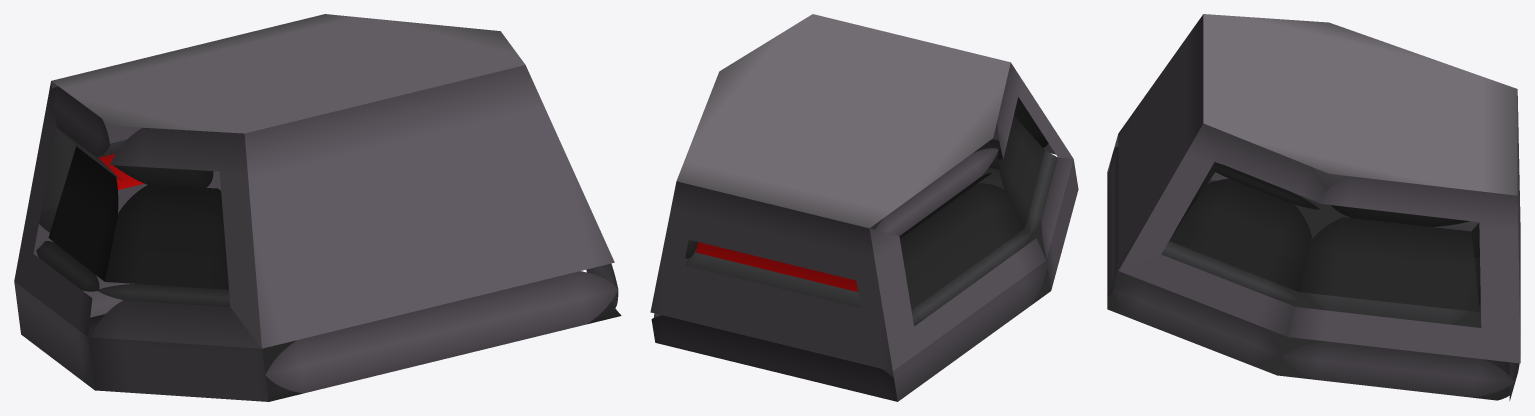
File: Colossus Head.obj
3 renders of one model, left to right at view 1: azimuth 30°, elevation 25°; view 2: azimuth 150°, elevation 25°; view 3: azimuth 270°, elevation 25°, orthographic. The views are drawn at different scales.
Parts seen in each view (by area): view 1: cylinder; view 2: cylinder; view 3: cylinder.
Part boxes in pixels (x1,y1,x2,y2): cylinder: (14,14,621,401); cylinder: (650,14,1078,401); cylinder: (1107,14,1520,400).
Bounding box in the file's own units: 0.3922 × 0.2563 × 0.3605.
1 material, 1 textured.
